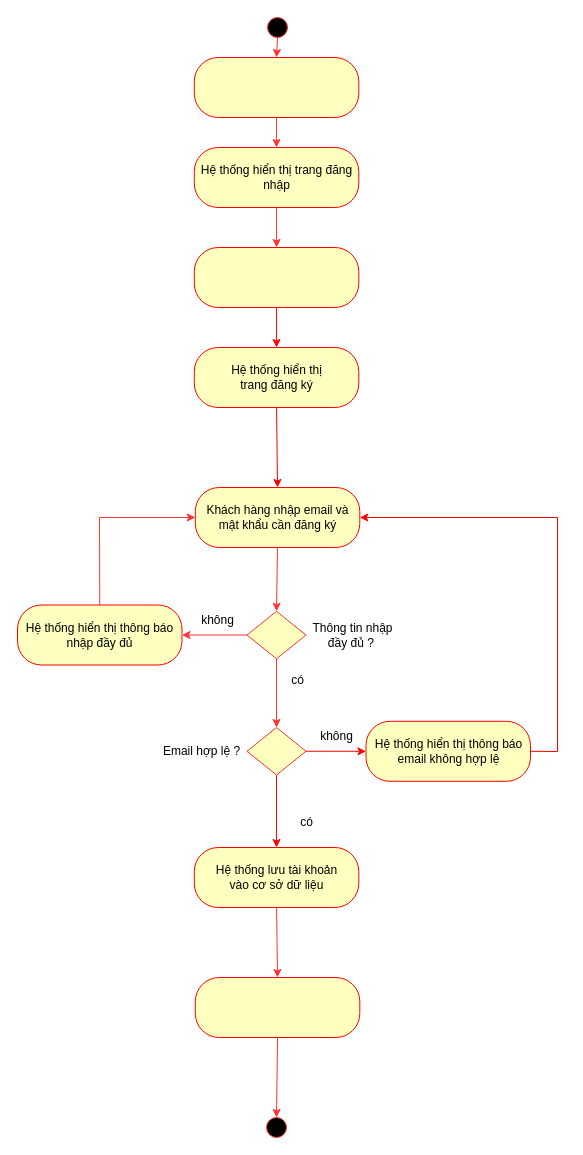
The diagram is 583 pixels wide and 1155 high, and some of its shapes have lost their labels. The shapes that lost their labels are listed below. From the top down, each one's centre as x and y in pixels, then its label:
At (x=276, y=87): "Khách hàng truy cập trang đăng nhập".
At (x=276, y=277): "Khách hàng chọn chưa có tài khoản".
At (x=277, y=1007): "Hệ thống thông báo tạo tài khoản thành công".
